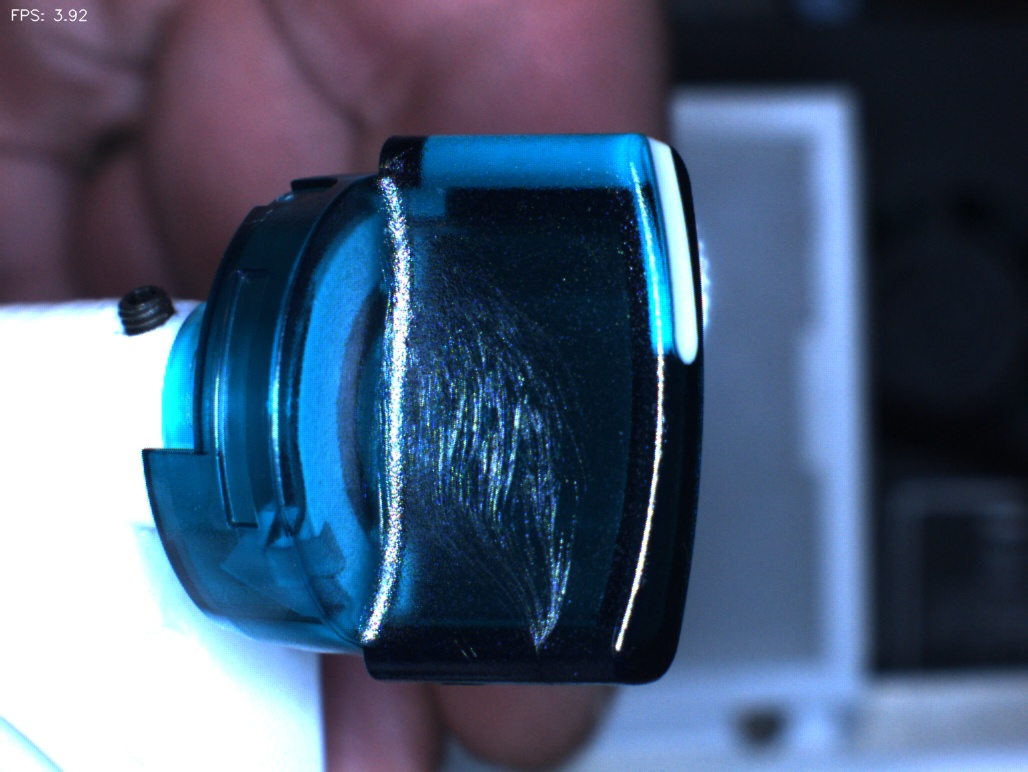Givrage: (414, 263, 584, 654)
